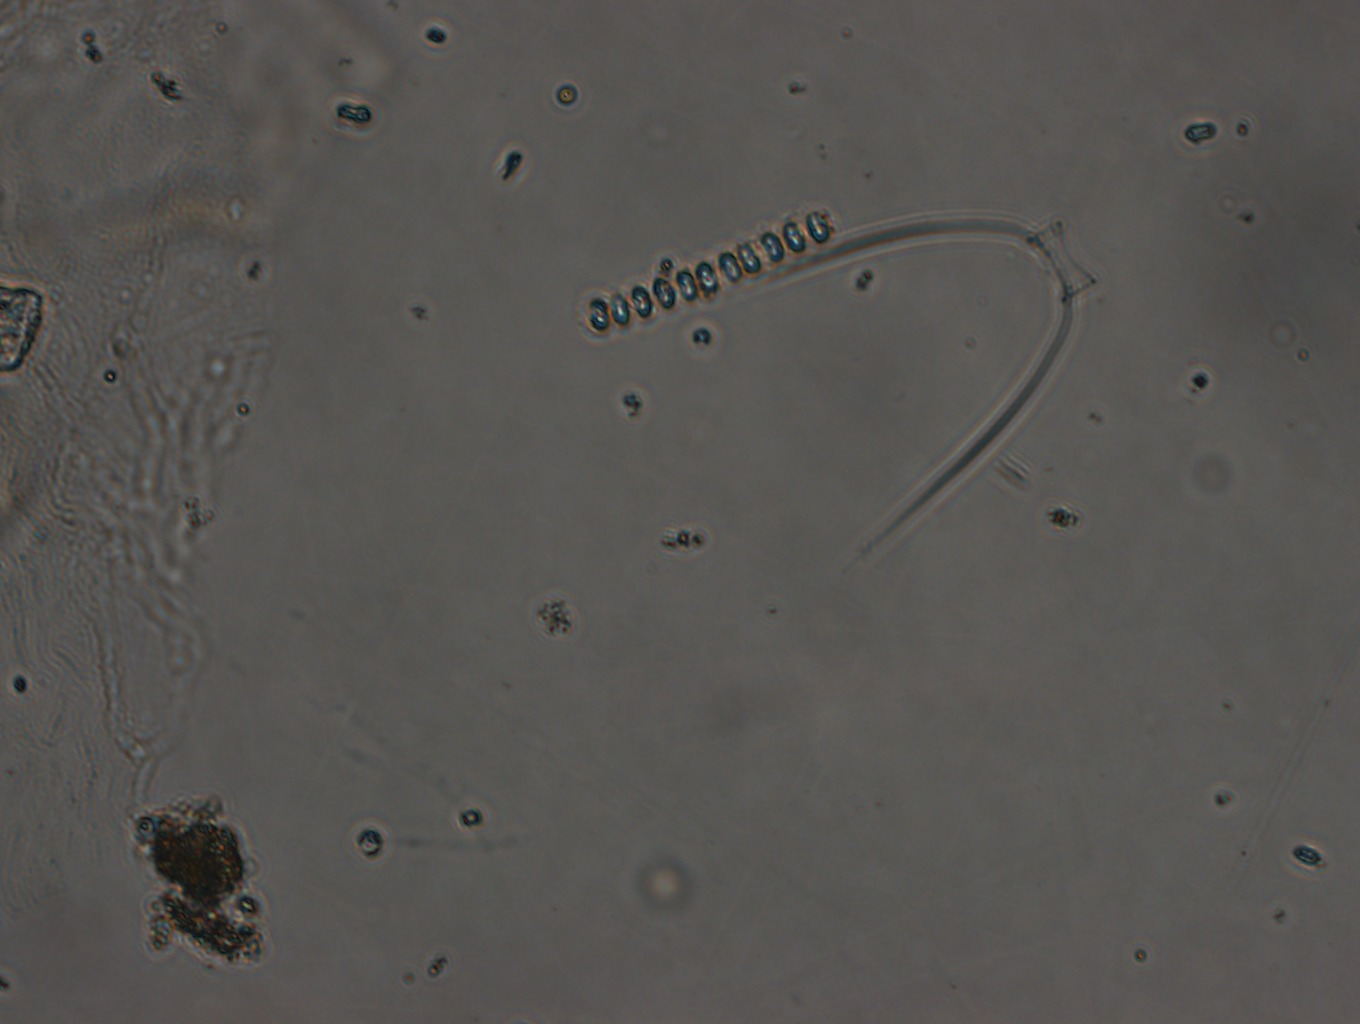chaetoceros: (672, 207, 1105, 549)
skeletonema: (585, 207, 839, 337)
